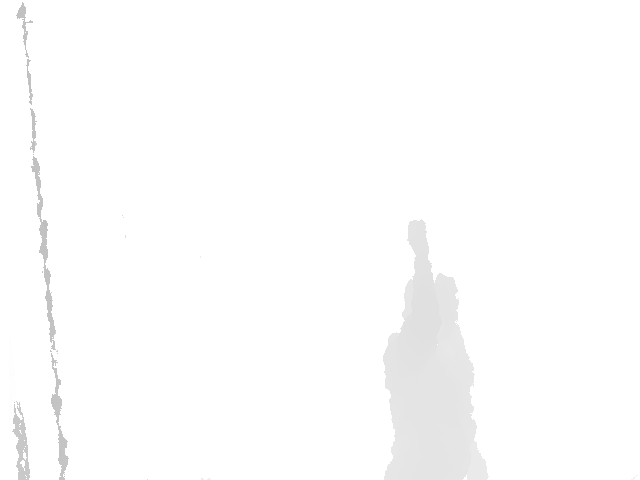hand: (406, 220, 431, 262)
head: (403, 274, 461, 351)
person: (381, 220, 491, 480)
